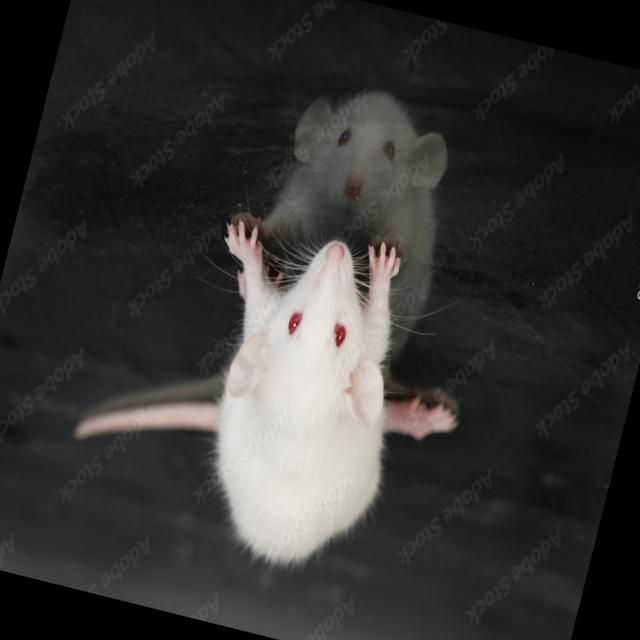rodents: (140, 178, 455, 604)
